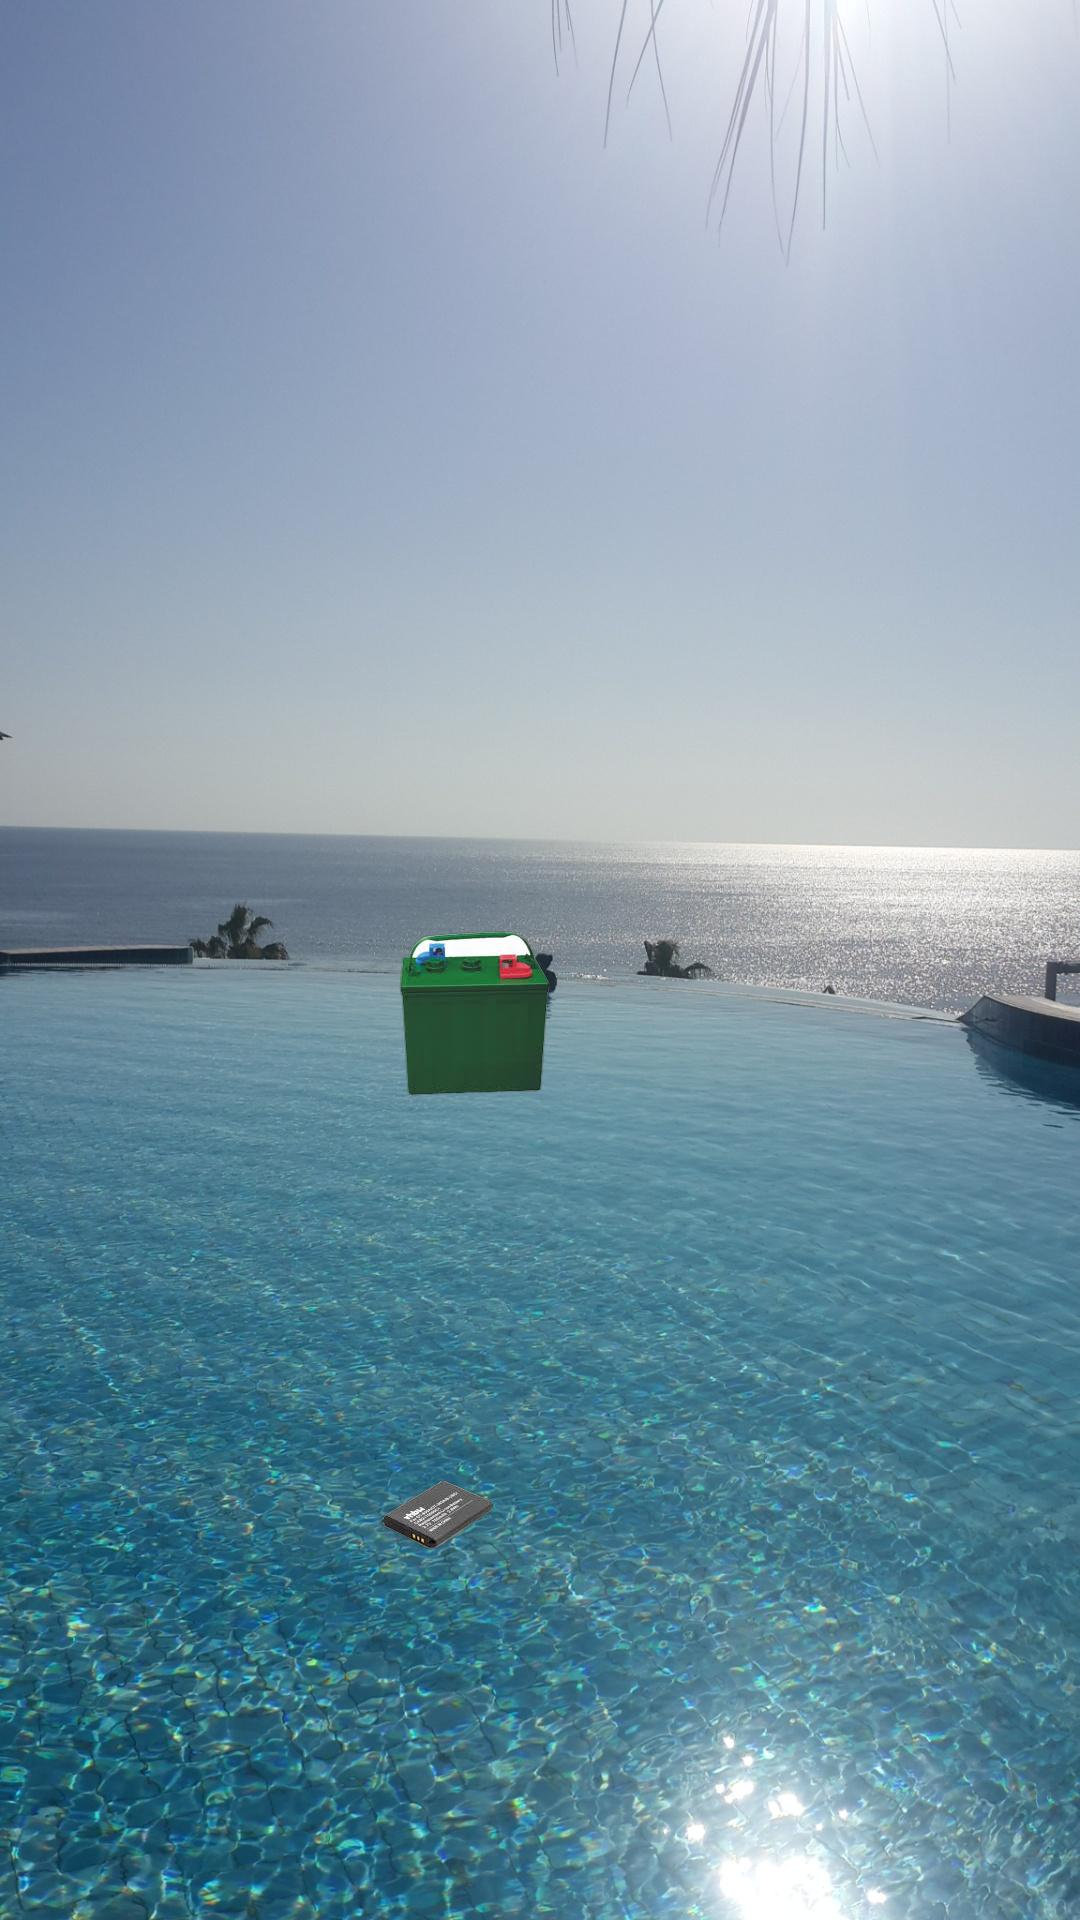battery: (397, 928, 553, 1098), (378, 1478, 496, 1552)
